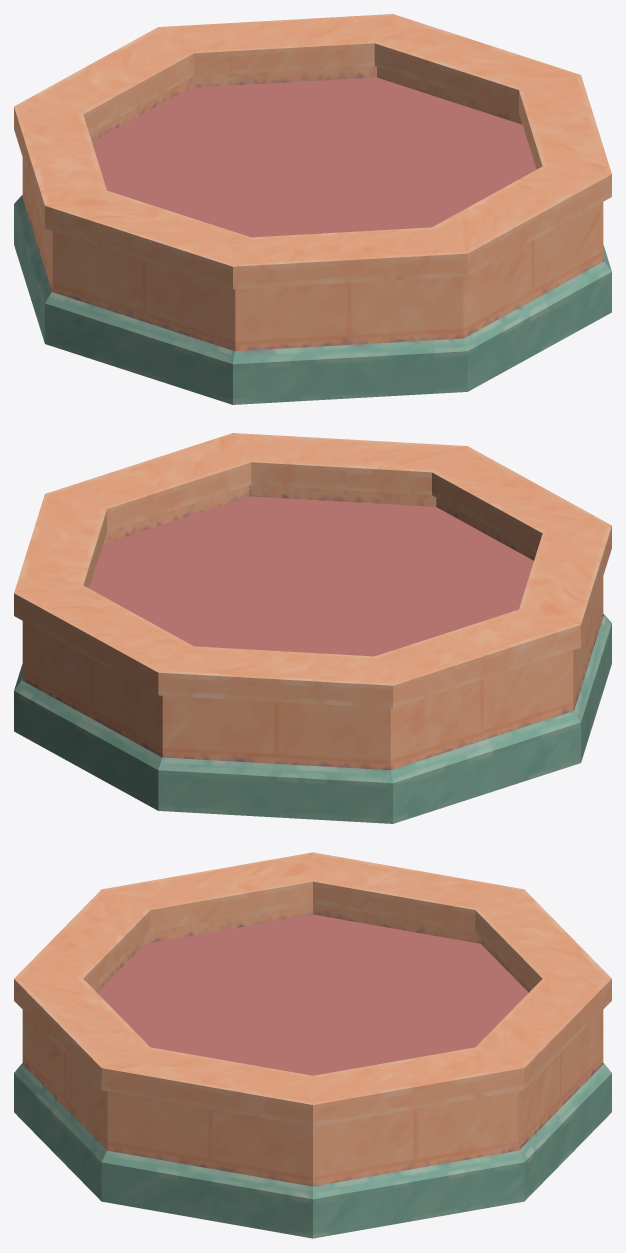
File: vat_low.fbx
3 renders of one model, top to bottom at view 1: azimuth 30°, elevation 25°; view 2: azimuth 150°, elevation 25°; view 3: azimuth 270°, elevation 25°, orthographic. The views are drawn at different scales.
Parts seen in each view (by area): view 1: vat; view 2: vat; view 3: vat.
Boxes of the visible parts, bbox=[...] form: vat: bbox=[14, 14, 611, 404]; vat: bbox=[14, 433, 611, 823]; vat: bbox=[14, 852, 611, 1238].
Bounding box in the file's own units: 6.9 × 1.7 × 6.9.
Materials: 1 (1 with a texture image).
